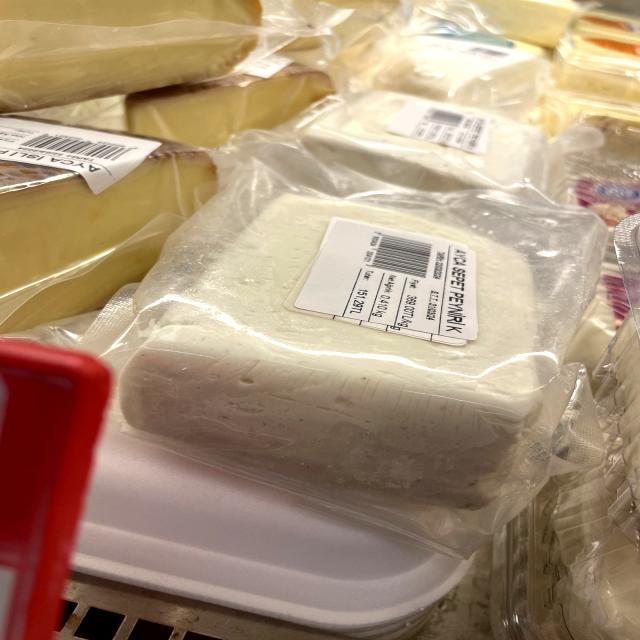cheese: (161, 165, 547, 498)
